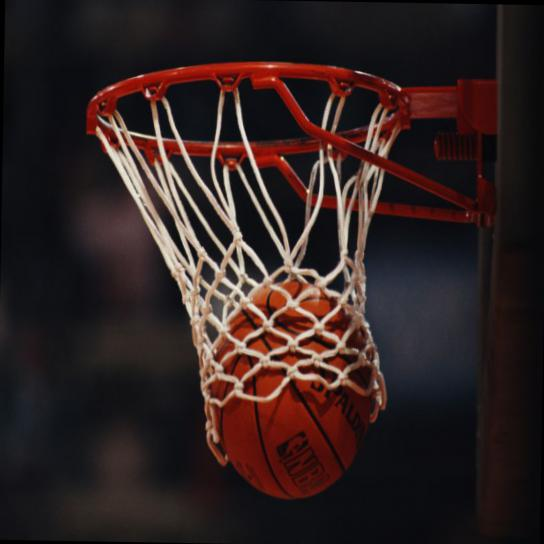basketball-hoop: (69, 50, 412, 475)
